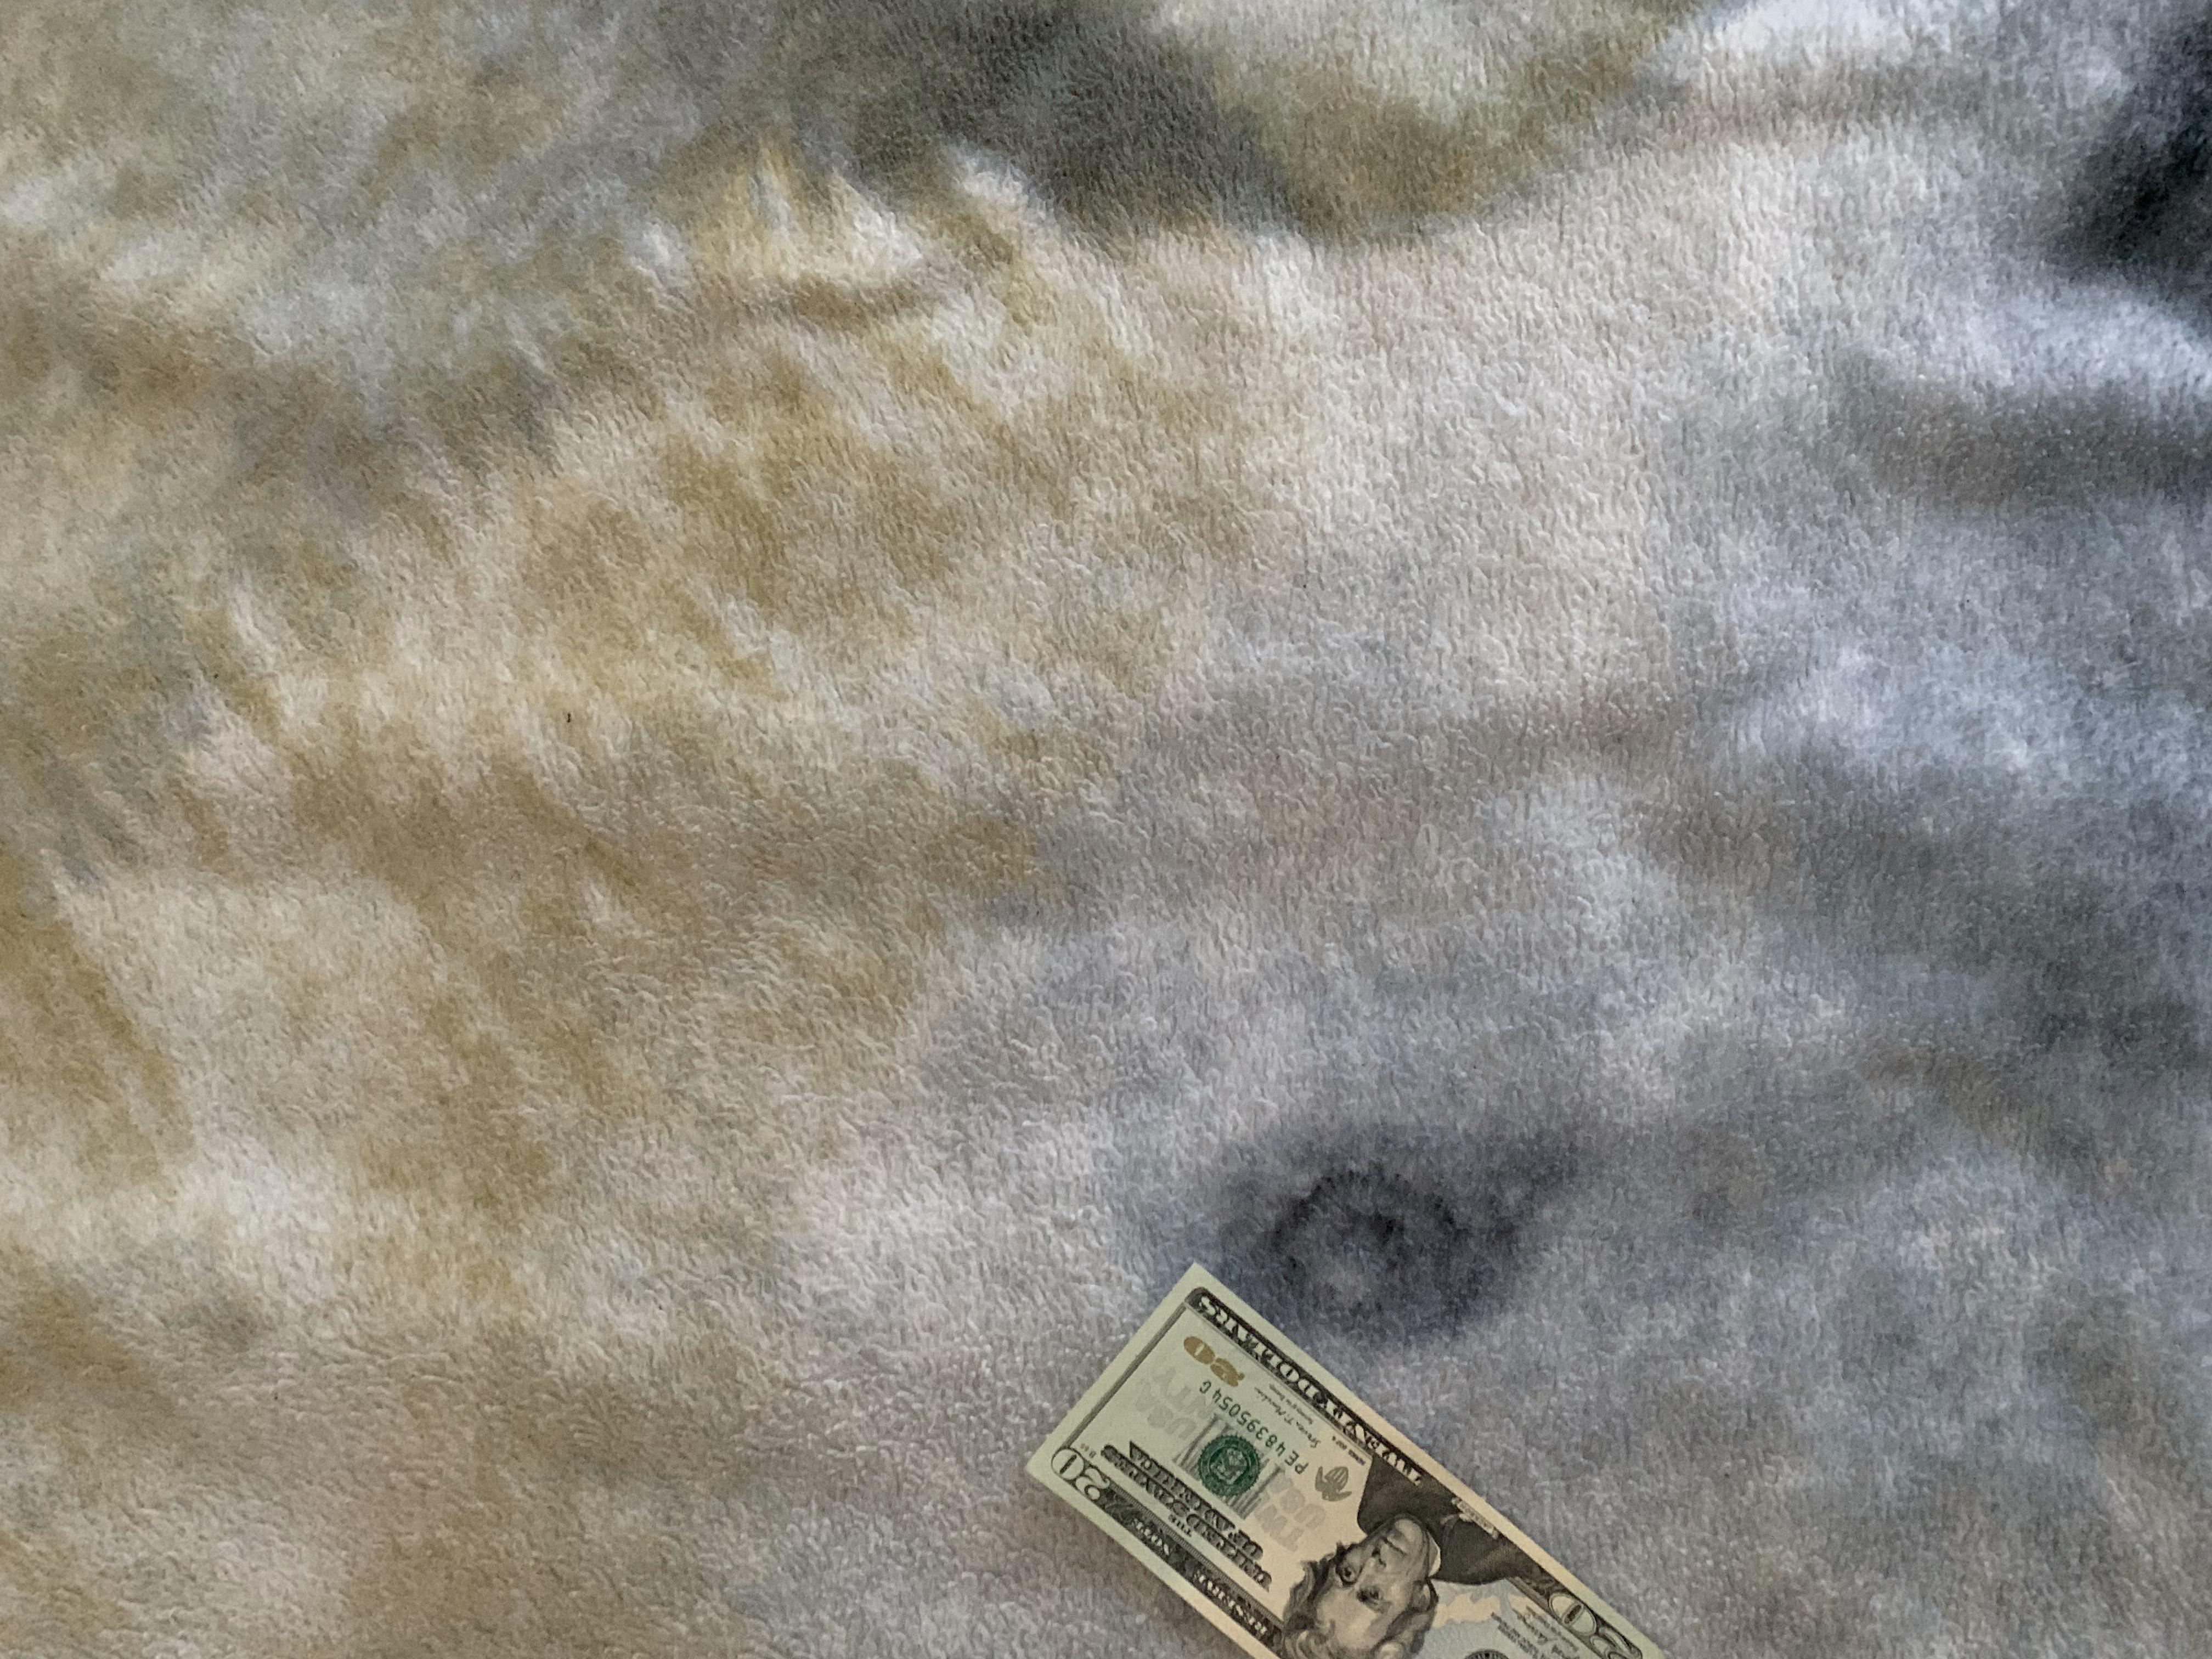TwentyBill: (1026, 1260, 1669, 1657)
